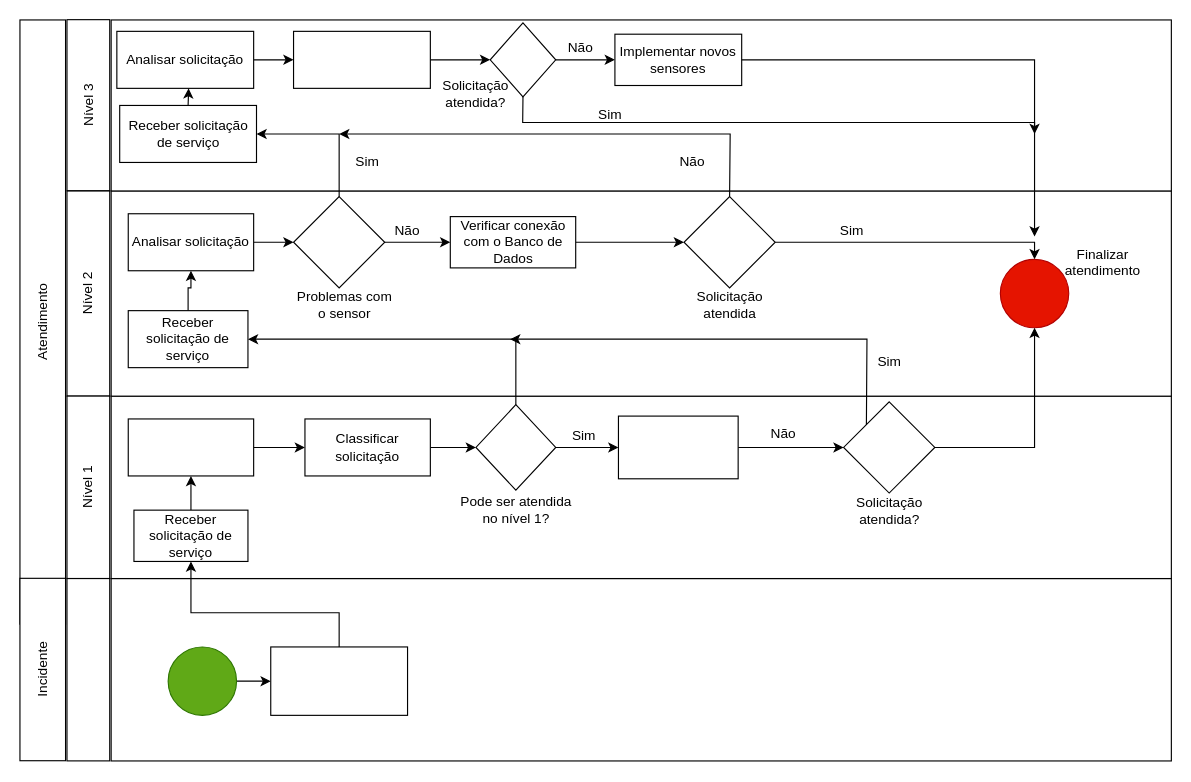
Some shapes in this 1191 by 782 pixel diagram are drawn without their labels. Here are the shapes that lost their labels. From the top down, the centre of each, then its label:
At point (361, 59): "Consertar sensores defeituosos".
At point (190, 447): "Registrar solicitação de serviço".
At point (677, 447): "Reiniciar página da dashnboard".
At point (88, 669): "Cliente".
At point (339, 680): "Solicitação de serviço falha na dashboard".
